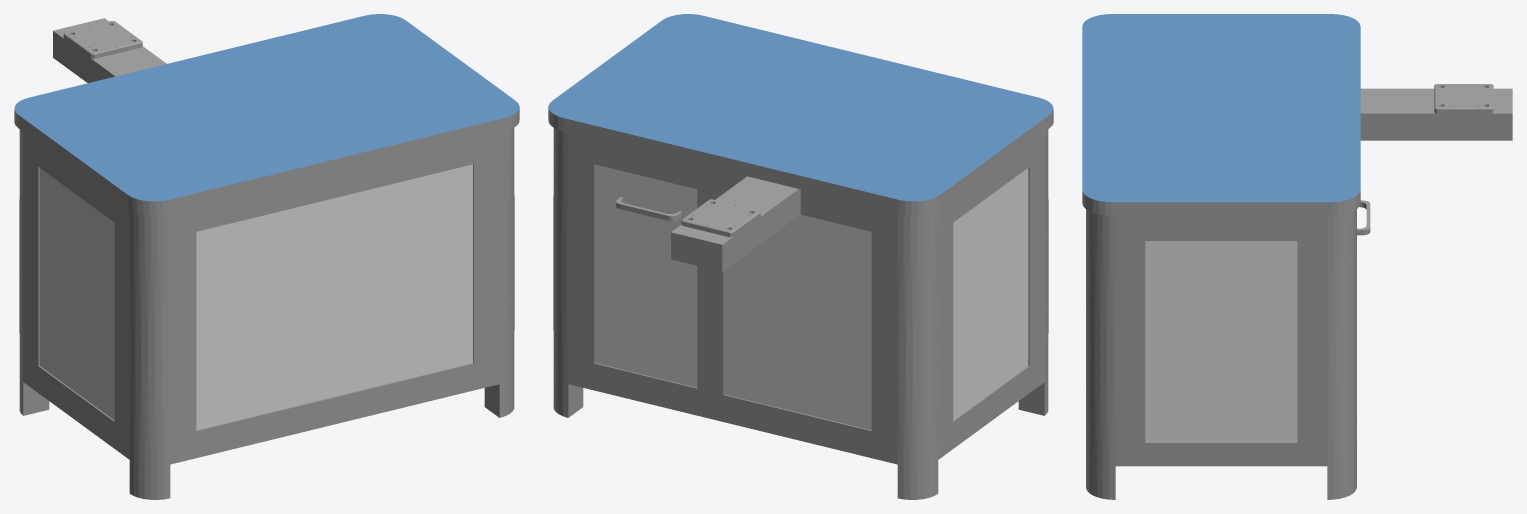
File: table.dae
3 renders of one model, left to right at view 1: azimuth 30°, elevation 25°; view 2: azimuth 150°, elevation 25°; view 3: azimuth 270°, elevation 25°, orthographic.
Parts seen in each view (by area): view 1: Table; view 2: Table; view 3: Table.
Boxes of the visible parts, bbox=[...] form: Table: bbox=[14, 14, 519, 499]; Table: bbox=[548, 14, 1053, 499]; Table: bbox=[1082, 14, 1512, 499].
Bounding box in the file's own units: 1.2 × 1.16 × 0.89.
